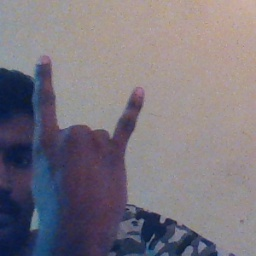V: (25, 53, 152, 239)
